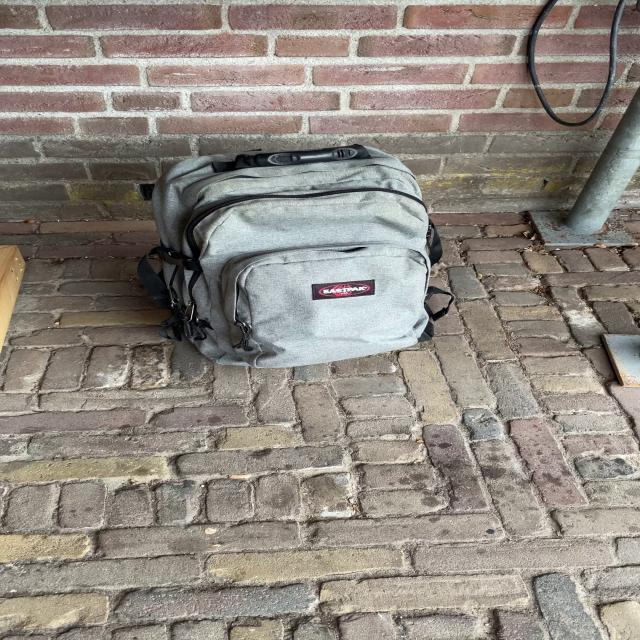backpack: (128, 135, 455, 372)
